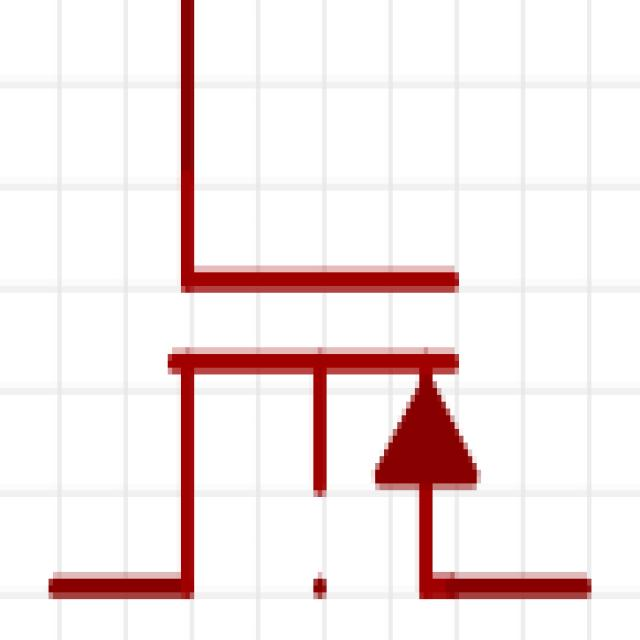pmos: (38, 45, 640, 640)
